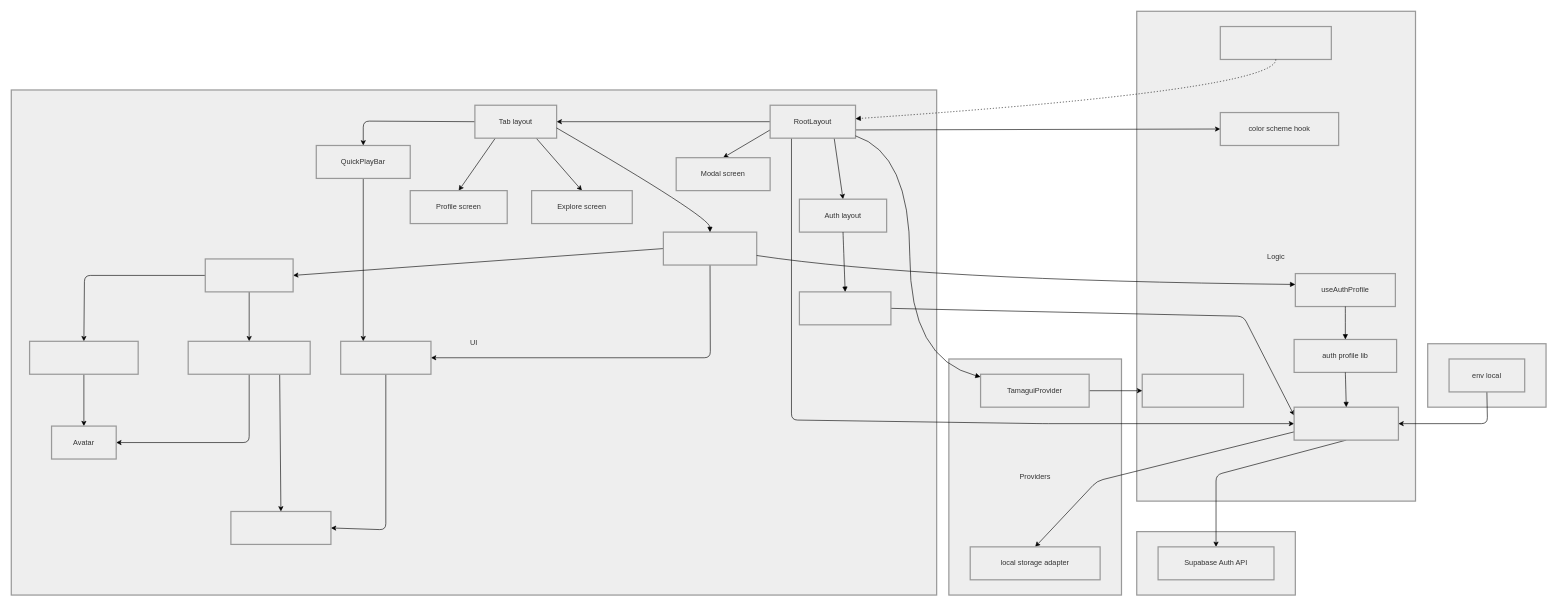
The diagram is 1557 pixels wide and 606 high, and some of its shapes have lost their labels. The centre of each missing label's shape, as x and y in pixels:
"ChessButton" goes at (x=385, y=357).
"Home screen" goes at (x=709, y=248).
"Login screen" goes at (x=844, y=308).
"No local backend" goes at (x=1275, y=43).
"PressFeedback" goes at (x=280, y=528).
"ProfileAvatarButton" goes at (x=248, y=357).
"ProfileMenu" goes at (x=248, y=275).
"ProfileMenuCard" goes at (x=83, y=357).
"supabase client" goes at (x=1346, y=423).
"tamagui config" goes at (x=1192, y=390).
